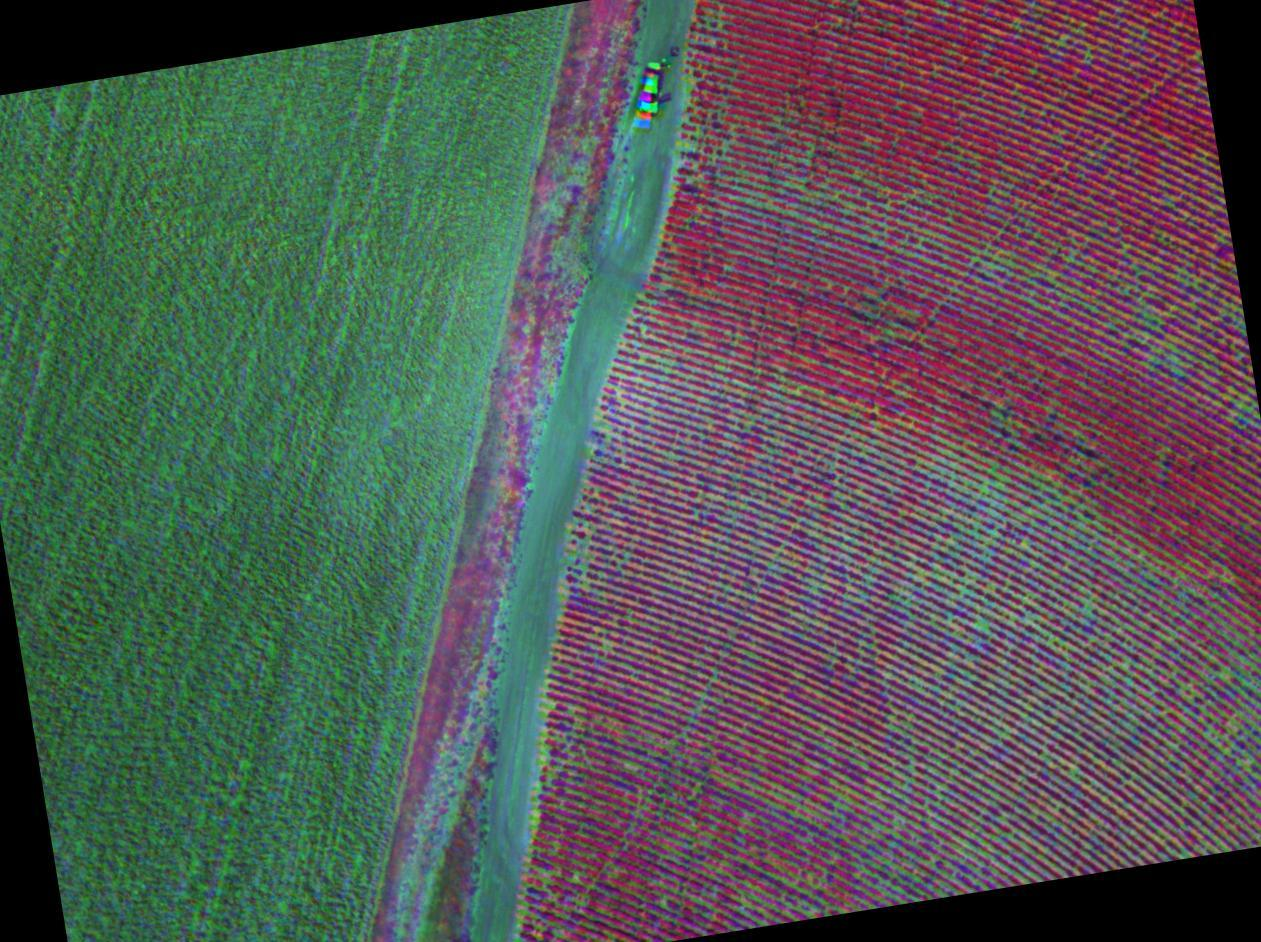dc: (978, 622, 985, 630), (1222, 670, 1228, 678), (1087, 603, 1093, 609), (627, 764, 633, 770), (1072, 766, 1077, 773)
